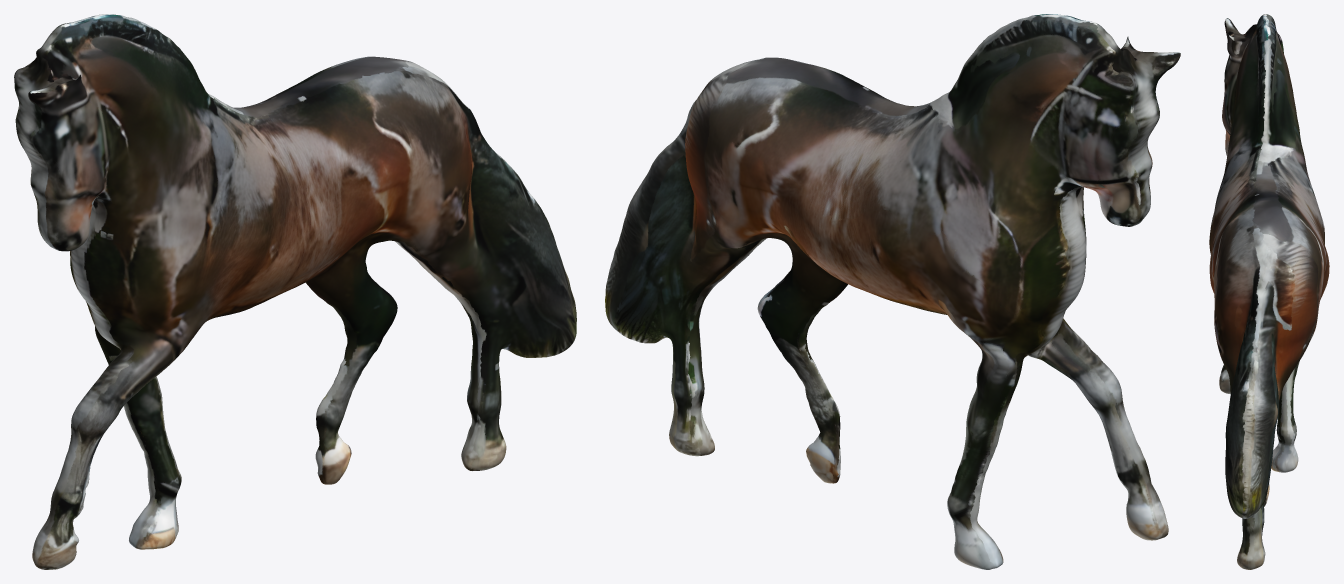
The model's file is adulto.glb.
3 views of the same model, side by side, from view 1: azimuth 30°, elevation 25°; view 2: azimuth 150°, elevation 25°; view 3: azimuth 270°, elevation 25° (orthographic). The views are drawn at different scales.
Parts seen in each view (by area): view 1: mesh; view 2: mesh; view 3: mesh.
Boxes of the visible parts, x1,y1,x2,y2 form: mesh: (14,14,576,569); mesh: (605,14,1180,569); mesh: (1209,14,1329,569).
Size of the model in its own units: 1.53 by 1.45 by 0.3784.
1 material, 1 textured.
